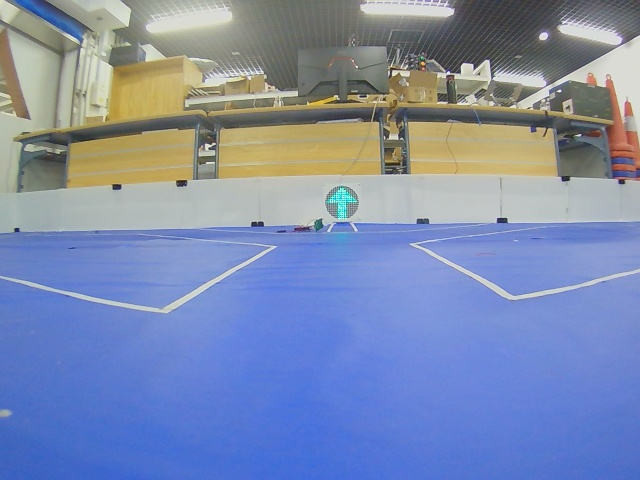straight_green: (325, 186, 359, 220)
